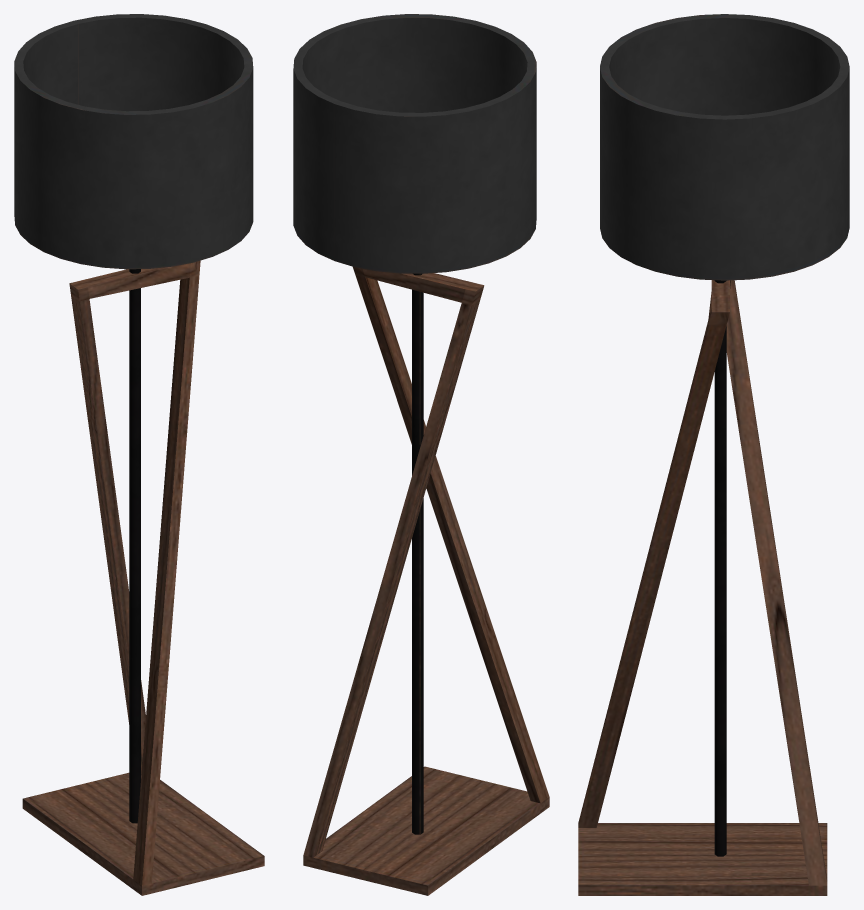
The model's file is Lamp-01.fbx.
3 views of the same model, side by side, from view 1: azimuth 30°, elevation 25°; view 2: azimuth 150°, elevation 25°; view 3: azimuth 270°, elevation 25° (orthographic). The views are drawn at different scales.
Parts seen in each view (by area): view 1: Cylinder.051, Plane.015, Plane.013, Cylinder.050; view 2: Cylinder.051, Plane.015, Plane.013, Cylinder.050; view 3: Cylinder.051, Plane.015, Plane.013, Cylinder.050.
Boxes of the visible parts, <box> form: Cylinder.051: <box>14,14,253,269</box>; Plane.015: <box>69,260,200,885</box>; Plane.013: <box>22,772,264,895</box>; Cylinder.050: <box>129,269,140,823</box>; Cylinder.051: <box>293,14,536,273</box>; Plane.015: <box>303,267,549,857</box>; Plane.013: <box>303,766,549,895</box>; Cylinder.050: <box>412,273,423,834</box>; Cylinder.051: <box>600,14,849,280</box>; Plane.015: <box>578,280,827,885</box>; Plane.013: <box>578,823,827,895</box>; Cylinder.050: <box>714,280,726,856</box>.
Size of the model in its own units: 75.61 by 267 by 82.13.
Materials: 1 (1 with a texture image).
